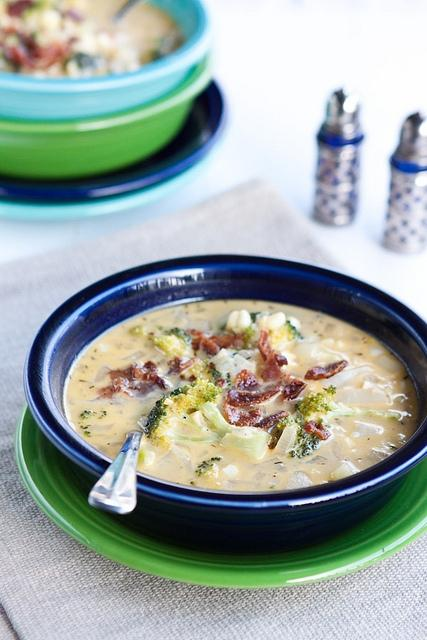broccoli: (294, 385, 398, 423), (146, 406, 218, 445), (148, 326, 193, 358), (266, 320, 302, 347), (290, 426, 320, 458), (267, 415, 294, 449), (20, 1, 48, 20), (196, 457, 222, 476), (68, 53, 94, 67), (150, 48, 165, 61), (244, 324, 256, 338), (241, 334, 251, 348), (80, 410, 94, 420)
